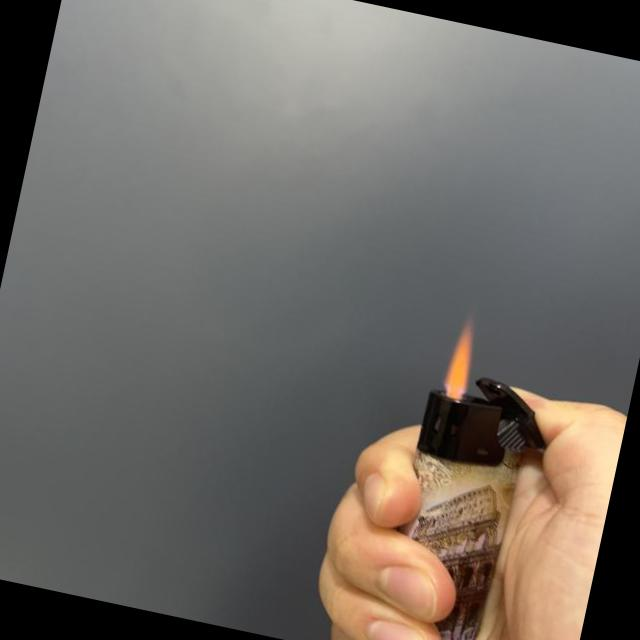Fire: (438, 316, 485, 399)
